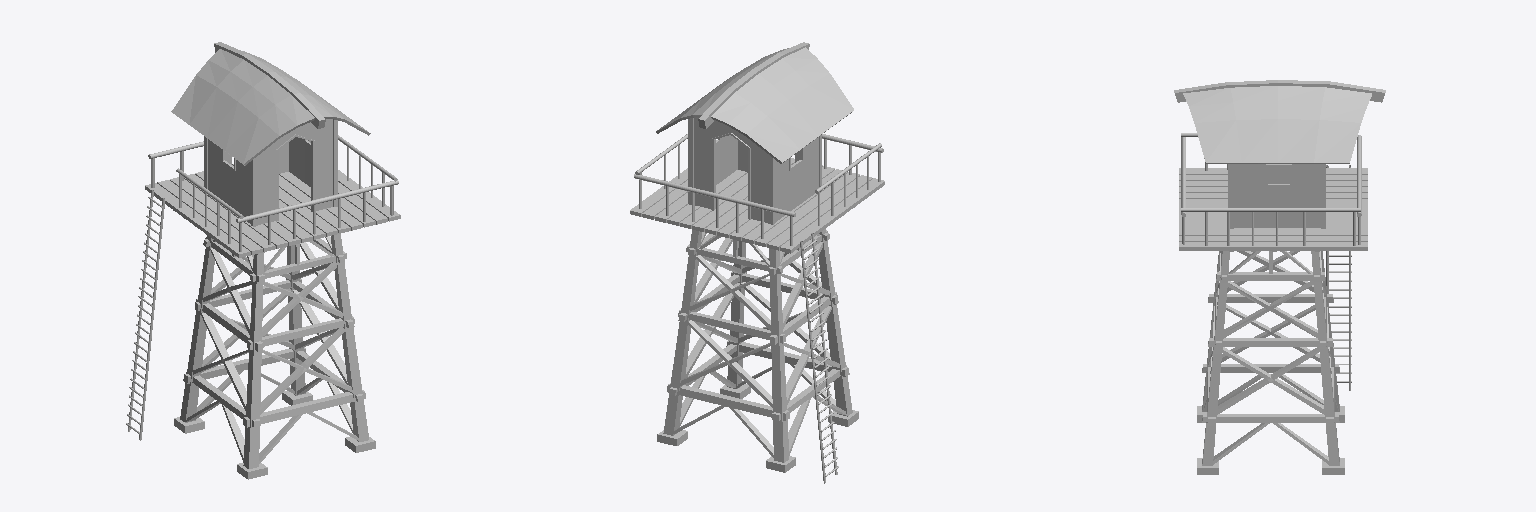
The model's file is building.obj.
3 renders of one model, left to right at view 1: azimuth 30°, elevation 25°; view 2: azimuth 150°, elevation 25°; view 3: azimuth 270°, elevation 25°, orthographic.
Visible parts, largest first — view 1: Torre_Material_0, Paredes_Material.003_0, Tabuas_Chao_Material.002_0, Escada_Material.001_0; view 2: Torre_Material_0, Paredes_Material.003_0, Tabuas_Chao_Material.002_0, Escada_Material.001_0; view 3: Paredes_Material.003_0, Torre_Material_0, Tabuas_Chao_Material.002_0, Escada_Material.001_0.
Part boxes in pixels (left/top/right/bottom): Torre_Material_0: left=174, top=233, right=375, bottom=479; Paredes_Material.003_0: left=171, top=42, right=370, bottom=226; Tabuas_Chao_Material.002_0: left=145, top=135, right=400, bottom=257; Escada_Material.001_0: left=126, top=190, right=164, bottom=440; Torre_Material_0: left=657, top=229, right=858, bottom=472; Paredes_Material.003_0: left=656, top=42, right=853, bottom=224; Tabuas_Chao_Material.002_0: left=630, top=134, right=884, bottom=253; Escada_Material.001_0: left=800, top=233, right=838, bottom=483; Paredes_Material.003_0: left=1174, top=80, right=1385, bottom=228; Torre_Material_0: left=1197, top=251, right=1344, bottom=474; Tabuas_Chao_Material.002_0: left=1179, top=133, right=1367, bottom=251; Escada_Material.001_0: left=1326, top=165, right=1351, bottom=390.
Bounding box in the file's own units: 5.16 × 9.49 × 5.01.